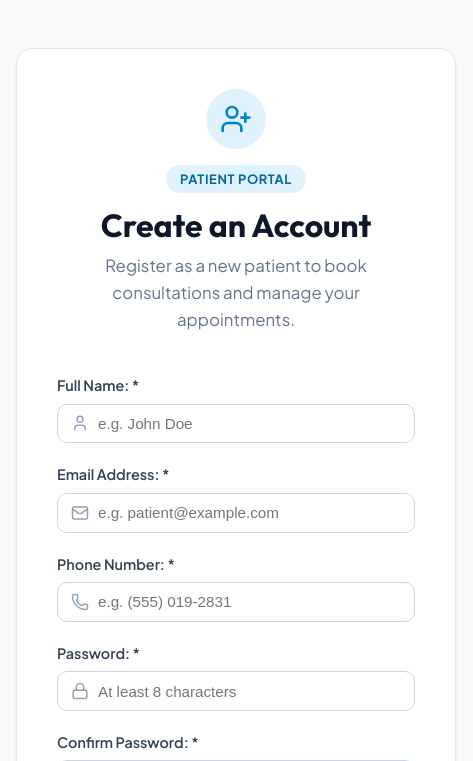
Test: Patient Registration Flow (/register) › validates invalid email format and password mismatch
Type "John Doe" into the field labelled "Full Name: *". click: (236, 423)
box: x1=57 y1=404 x2=415 y2=443
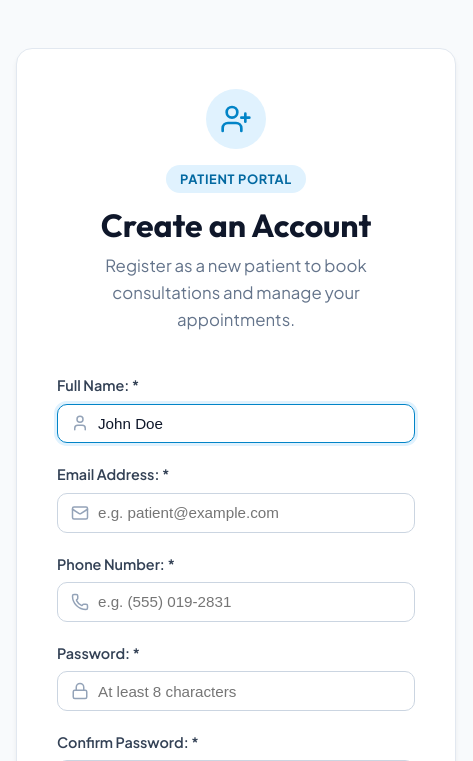
Type "invalid-email" into the field labelled "Email Address: *". click: (236, 513)
box: x1=57 y1=493 x2=415 y2=533
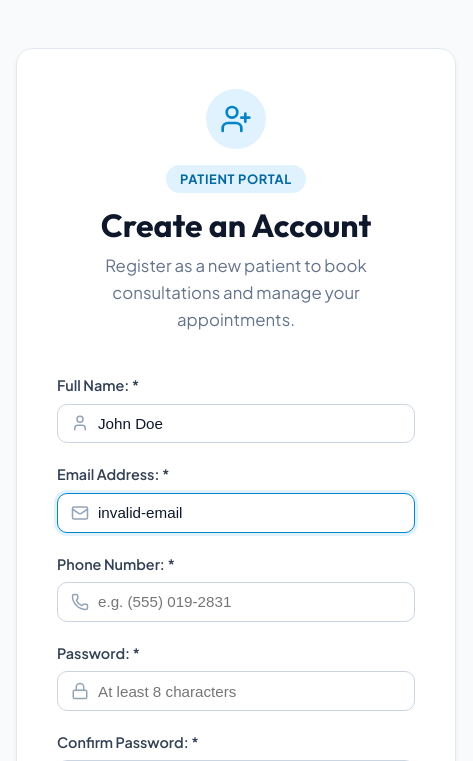
Type "555-1234" into the field labelled "Phone Number: *". click: (236, 602)
box: x1=57 y1=582 x2=415 y2=622
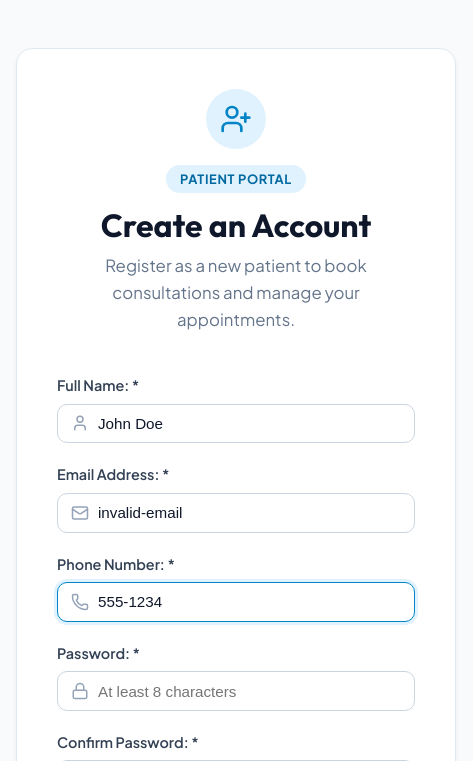
Type "SecretPass123!" into the password field labelled "Password: *". click: (236, 691)
box: x1=57 y1=671 x2=415 y2=711
(page scrolled)
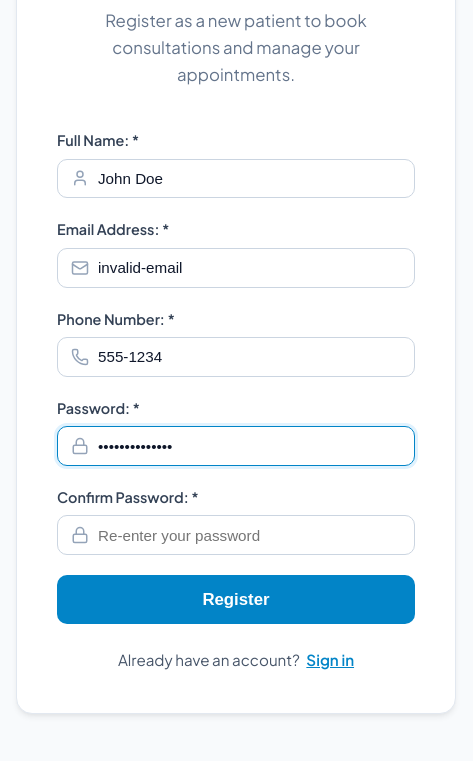
Type "DifferentPass456!" into the password field labelled "Confirm Password: *". click: (236, 535)
box: x1=57 y1=515 x2=415 y2=555
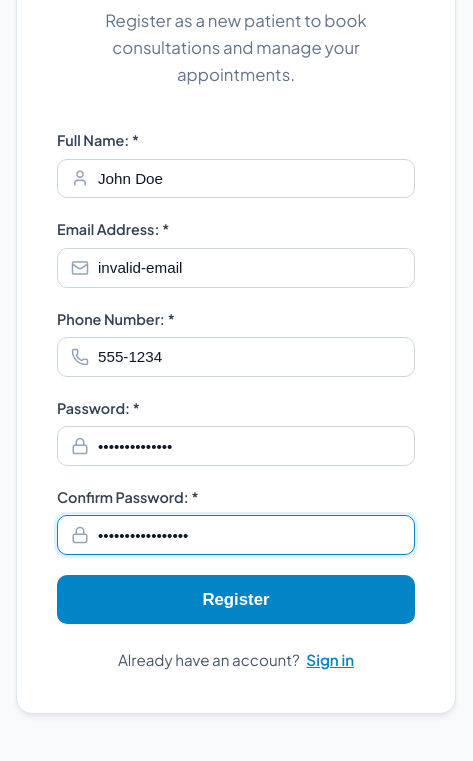
Click the button "Register". click: click(236, 600)
box: x1=57 y1=575 x2=415 y2=624
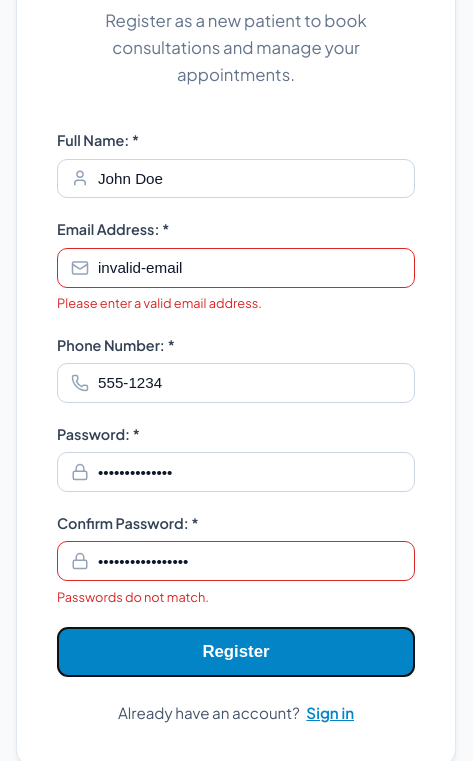
expect the text "Please enter a valid email address." is shown: met, box x1=57 y1=295 x2=262 y2=311
expect the text "Passwords do not match." is shown: met, box x1=57 y1=589 x2=209 y2=605
